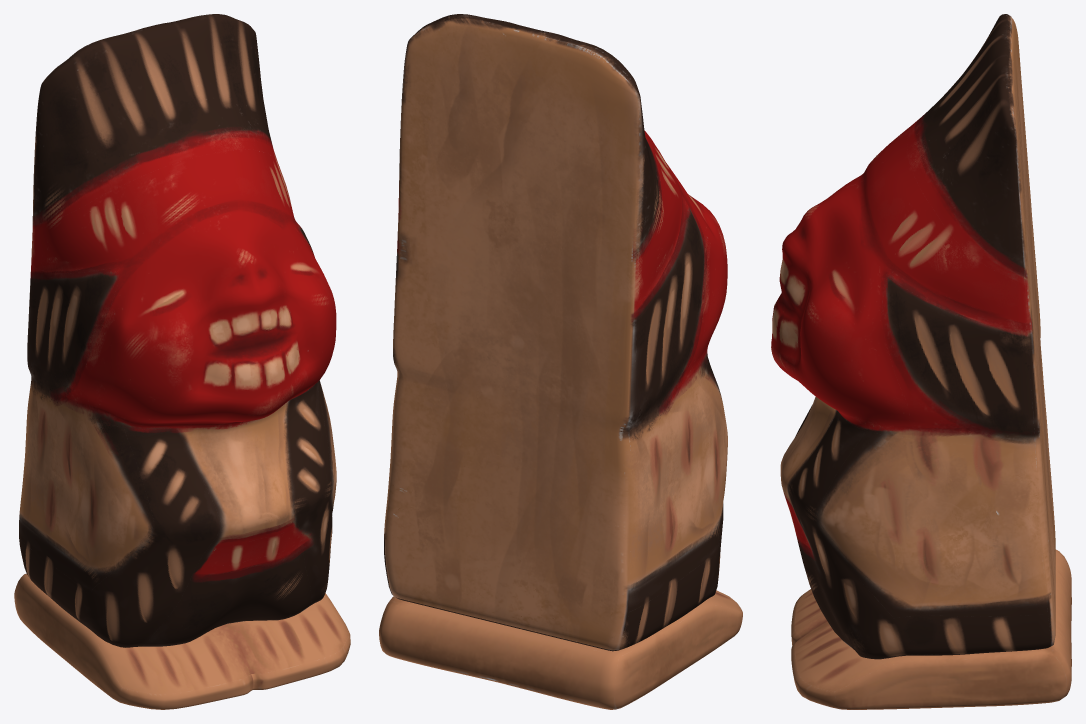
Rendered from indio_low_v002.glb.
3 views of the same model, side by side, from view 1: azimuth 30°, elevation 25°; view 2: azimuth 150°, elevation 25°; view 3: azimuth 270°, elevation 25° (orthographic). The views are drawn at different scales.
Parts seen in each view (by area): view 1: indio_low.001, indio_low; view 2: indio_low.001, indio_low; view 3: indio_low.001, indio_low.
Part boxes in pixels (x1,y1,x2,y2): indio_low.001: (19, 14, 336, 647); indio_low: (14, 573, 350, 709); indio_low.001: (384, 14, 727, 651); indio_low: (379, 590, 742, 709); indio_low.001: (771, 14, 1055, 659); indio_low: (791, 549, 1071, 709).
Size of the model in its own units: 2.35 by 5.56 by 2.48.
1 material, 1 textured.
